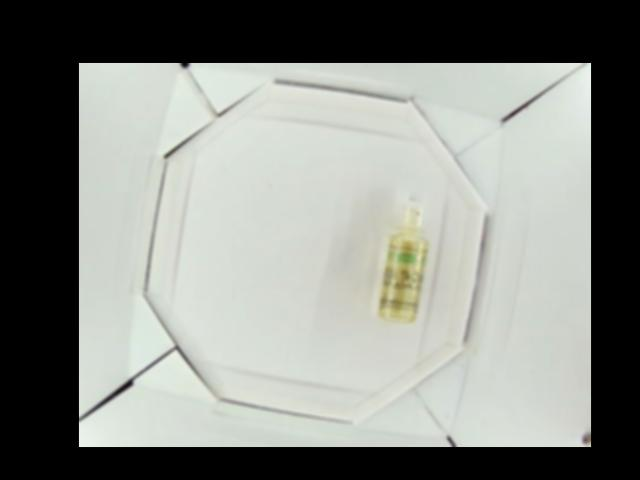Bottle: (374, 191, 435, 323)
